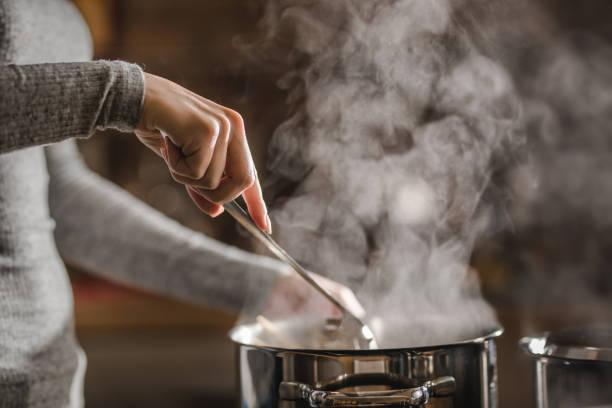controlled_fire: (264, 52, 494, 336)
